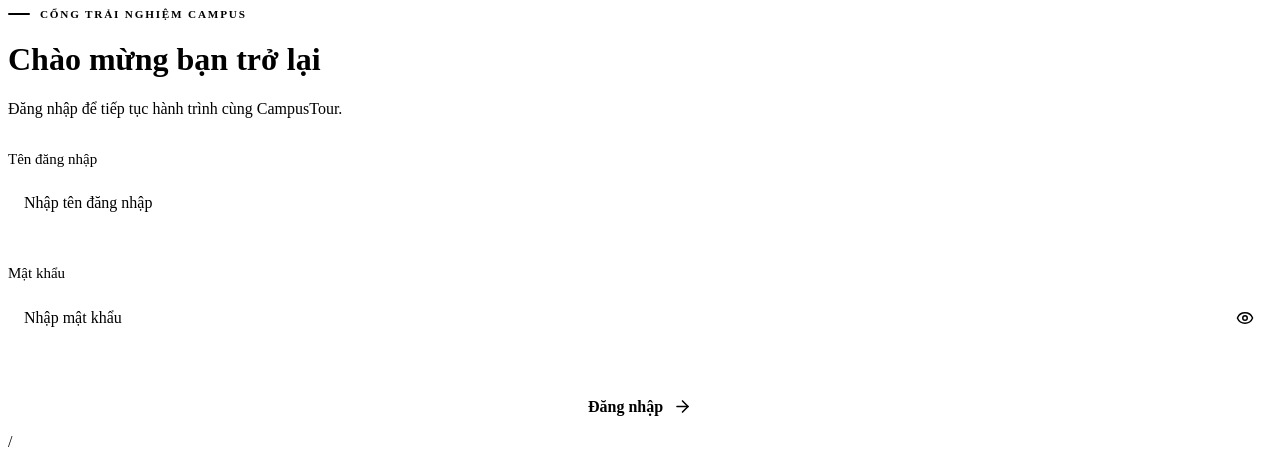
Scenario: LoginPage › renders the sign-in form and toggles password visibility
Expected: the heading "Chào mừng bạn trở lại" is shown, [8,41,320,77]
Click the button named "Hiện mật khẩu" at [1245, 318], box [1223,296,1267,340]
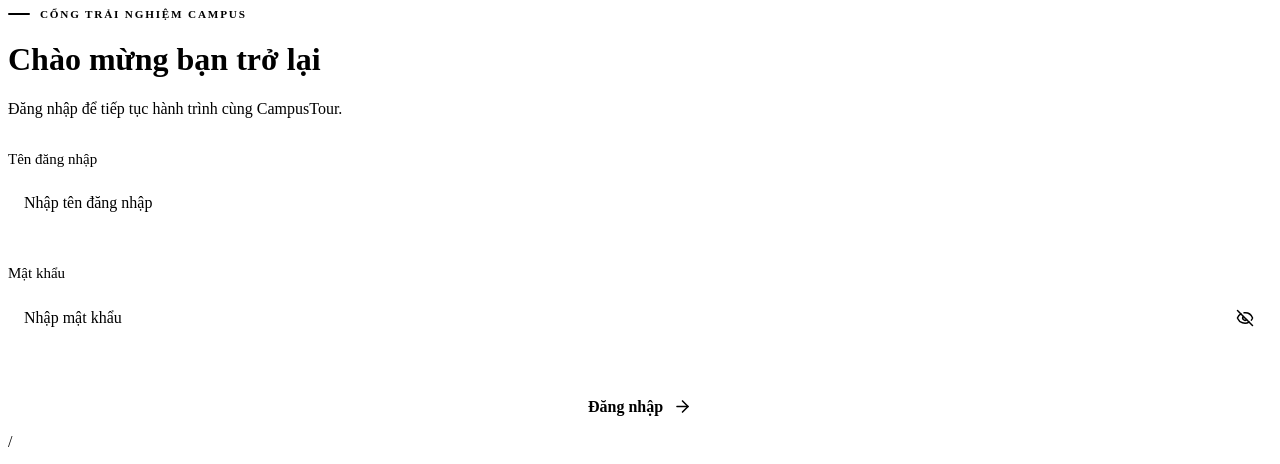
Expected: the button named "Ẩn mật khẩu" is shown, [1223,296,1267,340]
